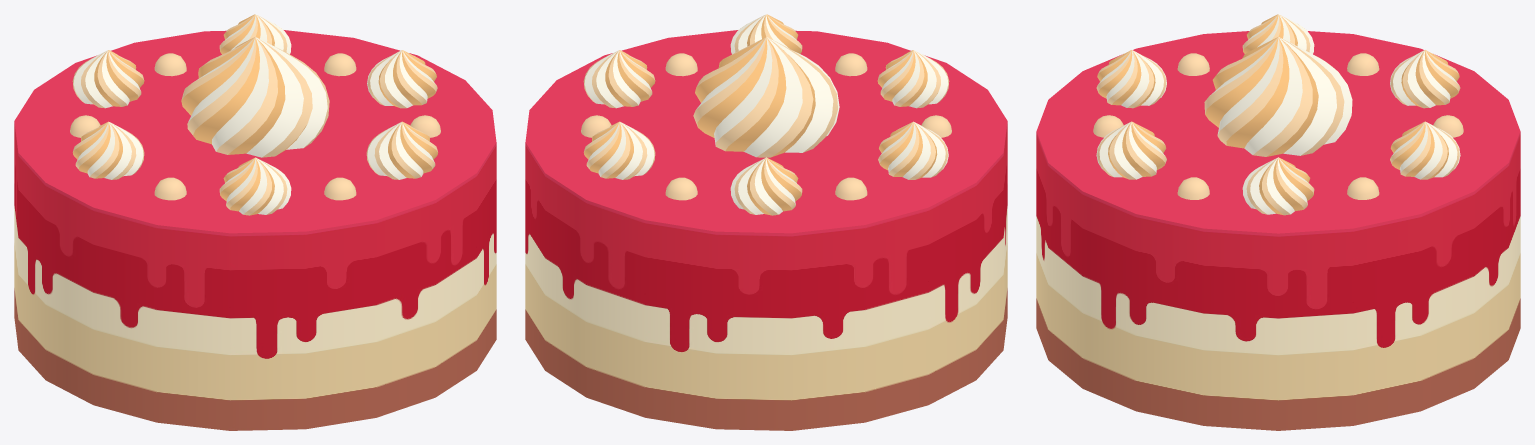
The model's file is cake_red-transformed.glb.
3 views of the same model, side by side, from view 1: azimuth 30°, elevation 25°; view 2: azimuth 150°, elevation 25°; view 3: azimuth 270°, elevation 25° (orthographic).
Visible parts, largest first — view 1: Whole_Cheesecake_0; view 2: Whole_Cheesecake_0; view 3: Whole_Cheesecake_0.
Part boxes in pixels (x1=…): Whole_Cheesecake_0: x1=14, y1=14, x2=496, y2=430; Whole_Cheesecake_0: x1=525, y1=14, x2=1007, y2=430; Whole_Cheesecake_0: x1=1036, y1=14, x2=1520, y2=430.
Bounding box in the file's own units: 0.4 × 0.2662 × 0.4.
1 material, 1 textured.
